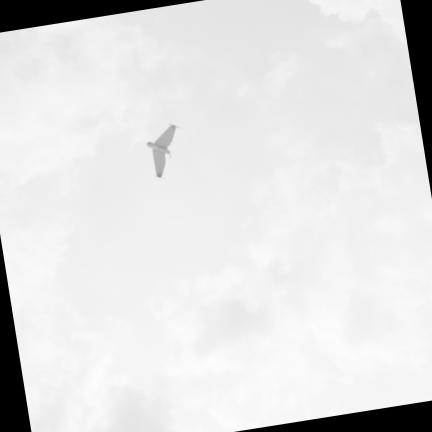Shahed: (147, 124, 178, 176)
